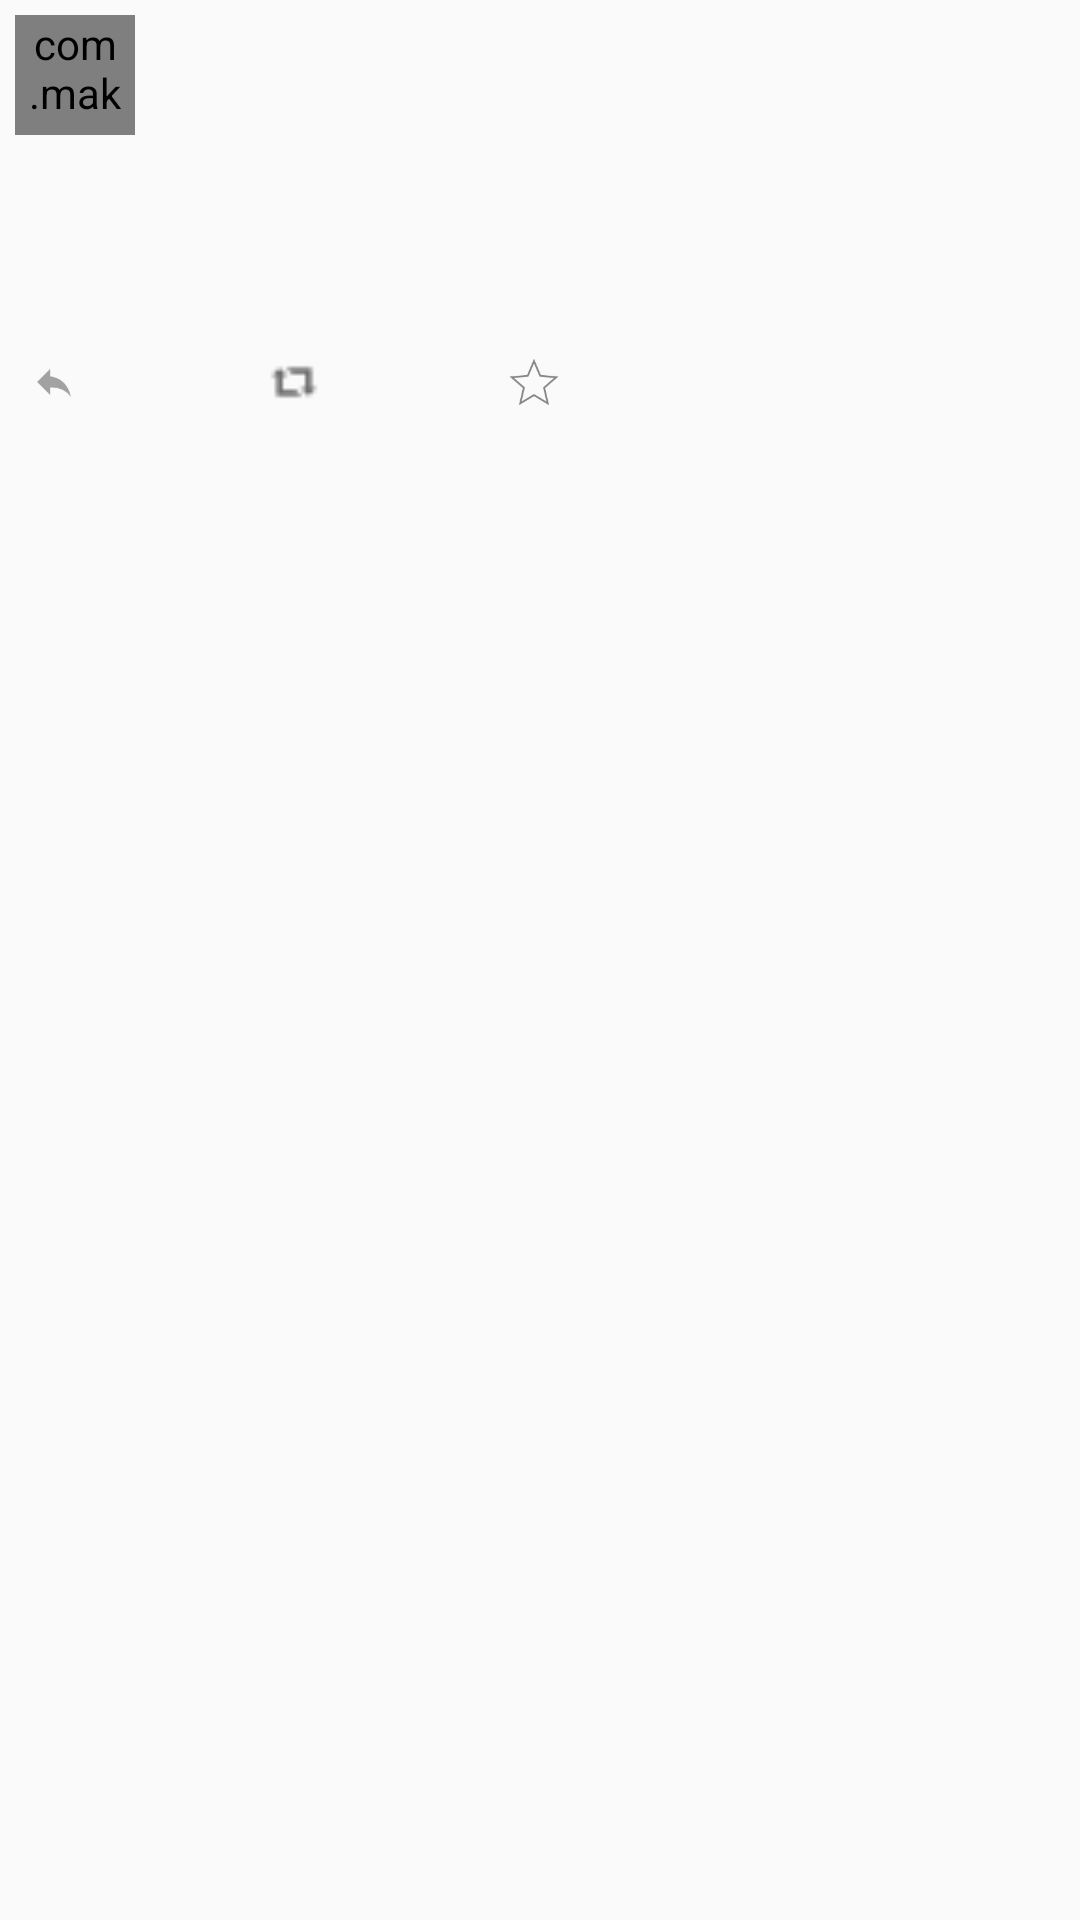

Locate icon controls on the screen. Image size 1080px x 1920px, boxes as (x1, y1, x2, y2).
content reply: (37, 369, 71, 397)
favorite: (510, 359, 558, 405)
iconmonstr retweet: (272, 366, 316, 398)
